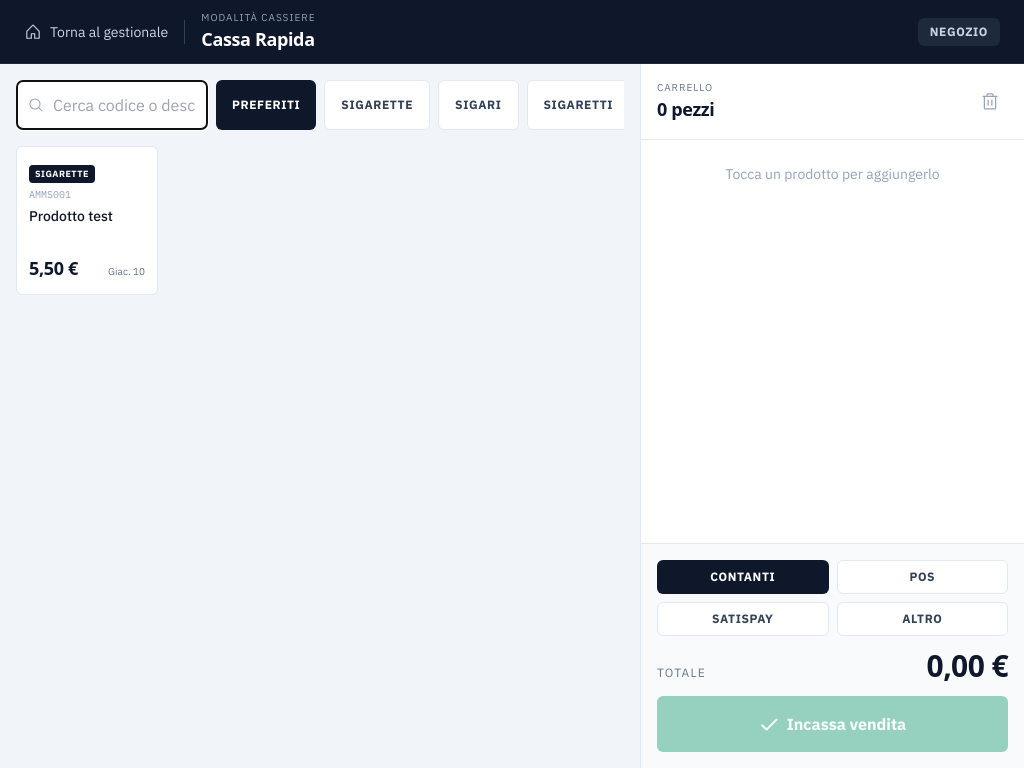
Test case: annulla l'ultima vendita confermata
What coordinates should you click on to do the following:
click the button with test id "pos-btn-AMMS001"
I would click on:
 (87, 220)
Its box is [16,146,158,295].
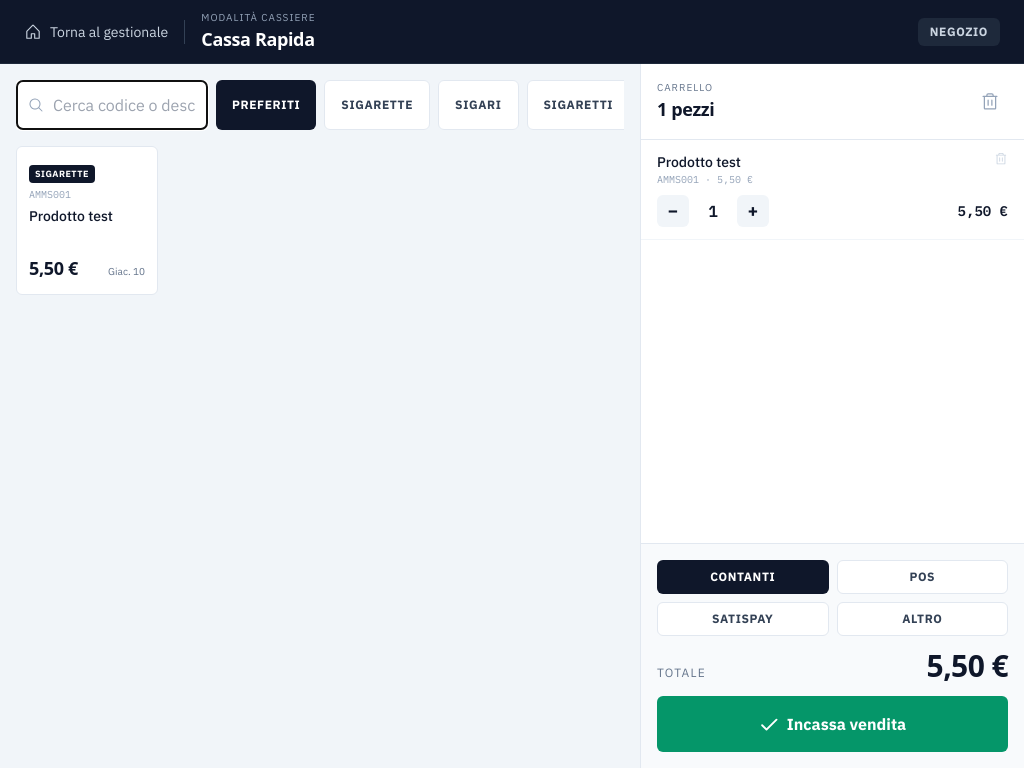
What coordinates should you click on to do the following:
click the button with test id "pos-conferma"
I would click on:
 (832, 724)
Its box is [657,696,1008,752].
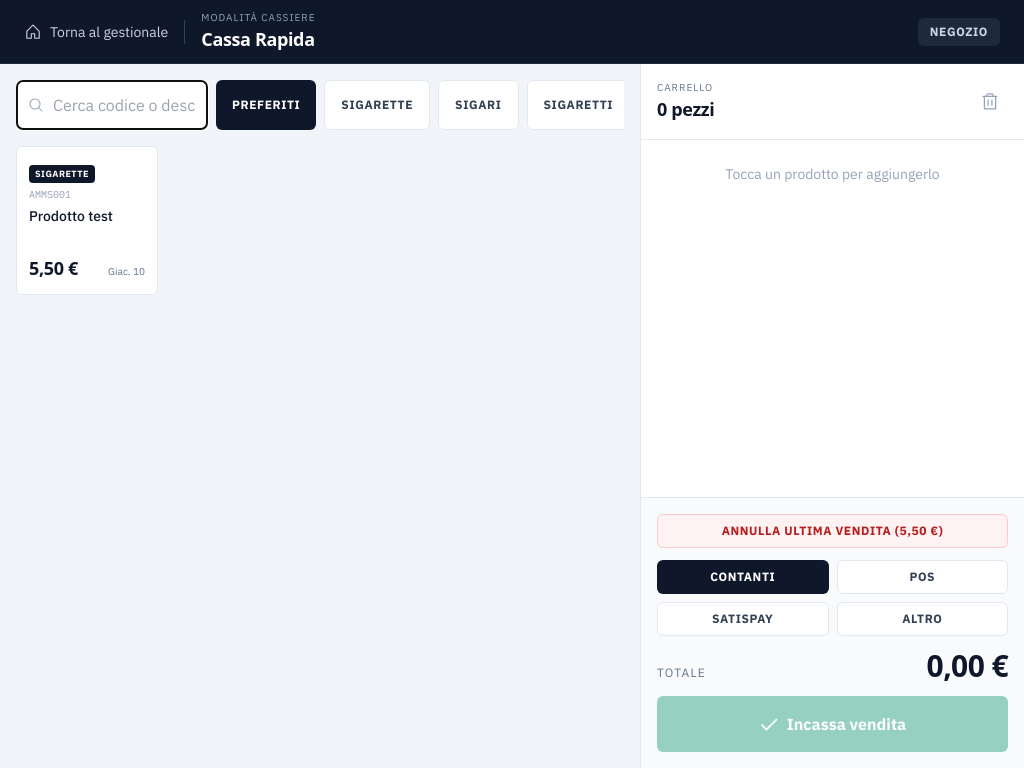
expect the button with test id "pos-undo-last" is shown: met
What coordinates should you click on to do the following:
click the button with test id "pos-undo-last"
I would click on:
 (832, 531)
Its box is [657,514,1008,548].
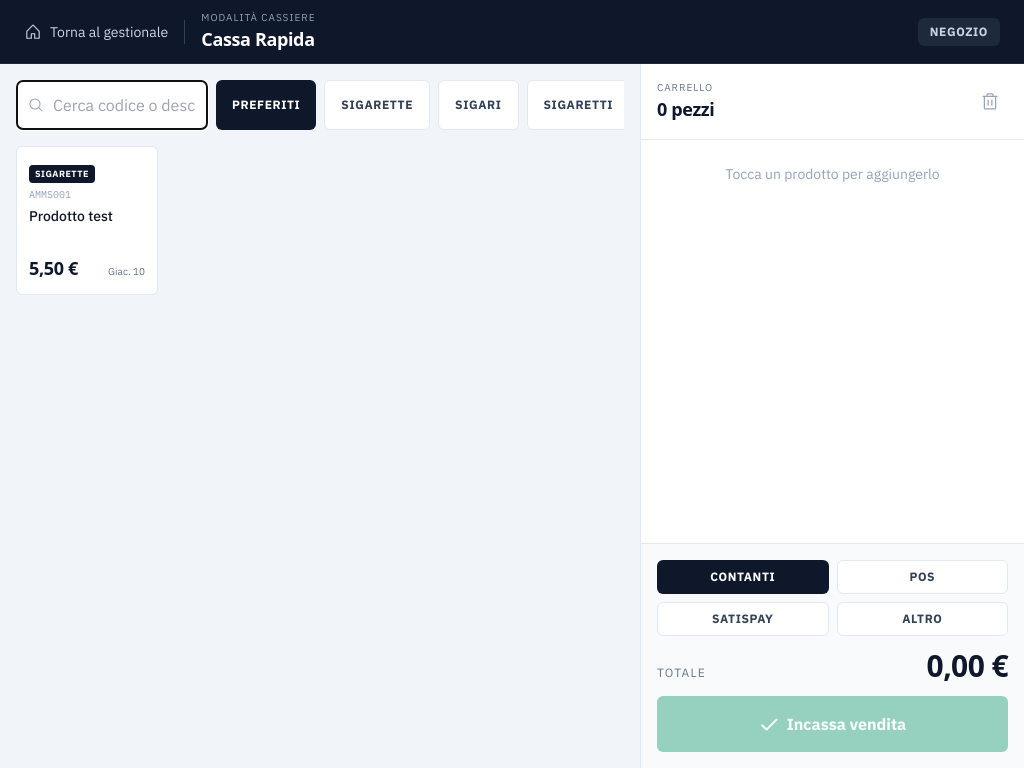
expect the button with test id "pos-undo-last" is gone: met
